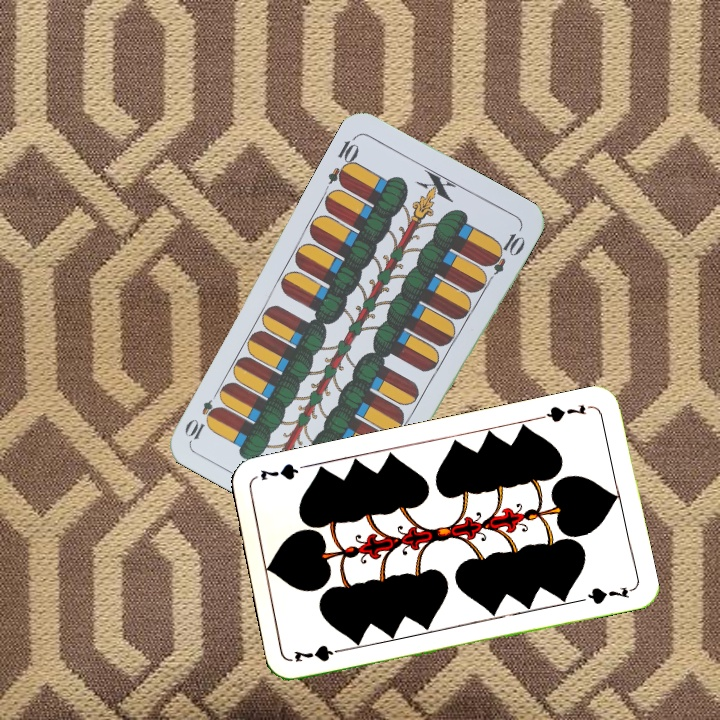E10: (323, 132, 362, 190)
G7: (290, 640, 350, 665), (536, 400, 589, 425)
